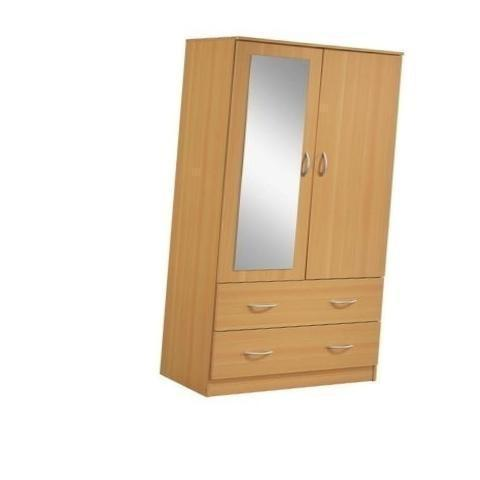Armario: (175, 37, 383, 402)
